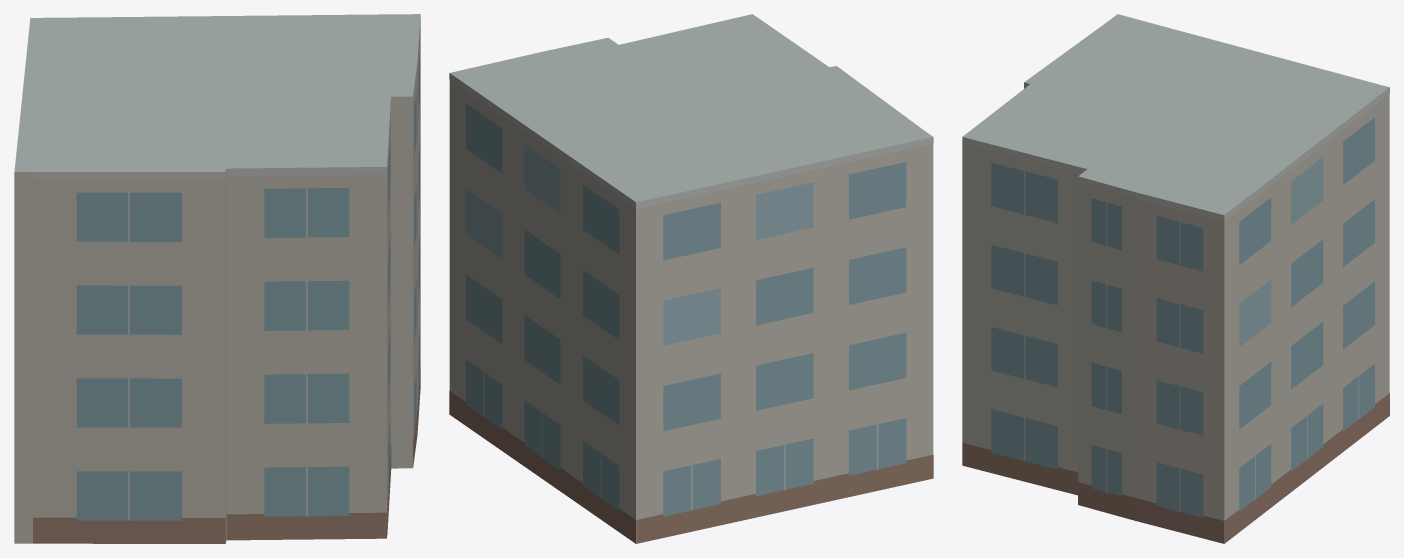
The model's file is survey-upis-32909851.glb.
The picture shows the model from 3 angles, left to right: view 1: azimuth 30°, elevation 25°; view 2: azimuth 150°, elevation 25°; view 3: azimuth 270°, elevation 25°; orthographic projection. The views are drawn at different scales.
Parts seen in each view (by area): view 1: survey-upis-32909851.tmp; view 2: survey-upis-32909851.tmp; view 3: survey-upis-32909851.tmp.
Part boxes in pixels (x1,y1,x2,y2): survey-upis-32909851.tmp: [14, 14, 420, 543]; survey-upis-32909851.tmp: [449, 14, 933, 543]; survey-upis-32909851.tmp: [962, 14, 1389, 543].
Size of the model in its own units: 16.23 by 12.35 by 14.57.
